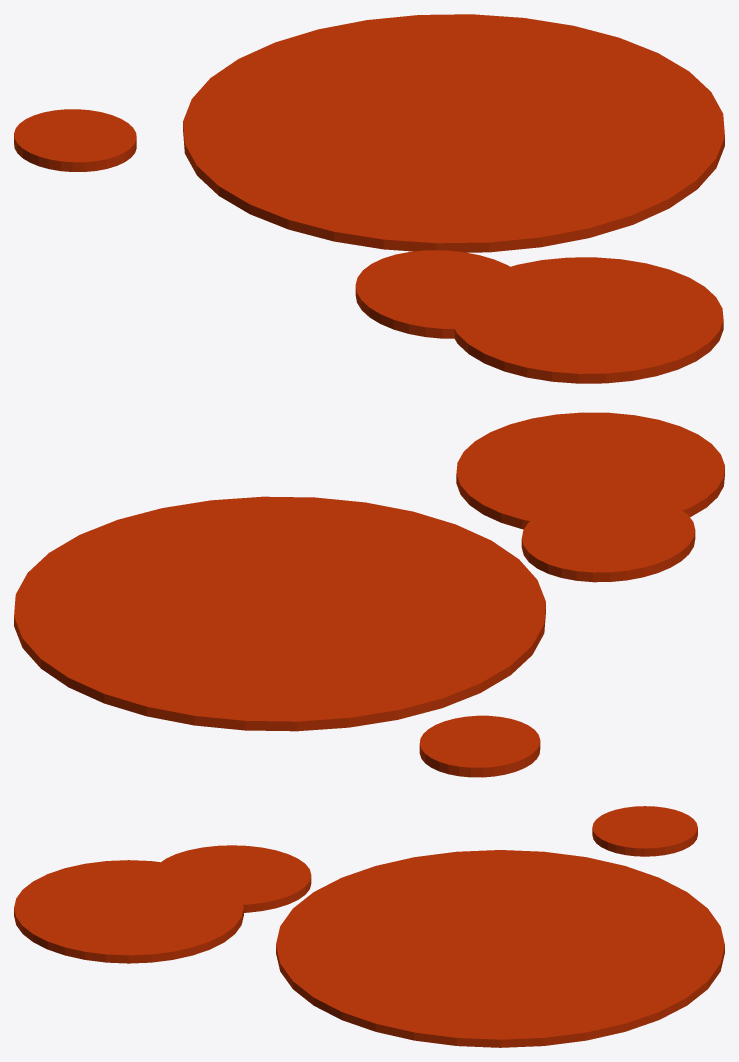
File: paintsplat3.fbx
3 views of the same model, one above another, from view 1: azimuth 30°, elevation 25°; view 2: azimuth 150°, elevation 25°; view 3: azimuth 270°, elevation 25° (orthographic). The views are drawn at different scales.
Parts seen in each view (by area): view 1: Cylinder; view 2: Cylinder; view 3: Cylinder.
Boxes of the visible parts, bbox=[...] form: Cylinder: bbox=[14, 14, 724, 383]; Cylinder: bbox=[14, 412, 724, 777]; Cylinder: bbox=[14, 806, 724, 1047].
Bounding box in the file's own units: 120 × 1.96 × 155.
